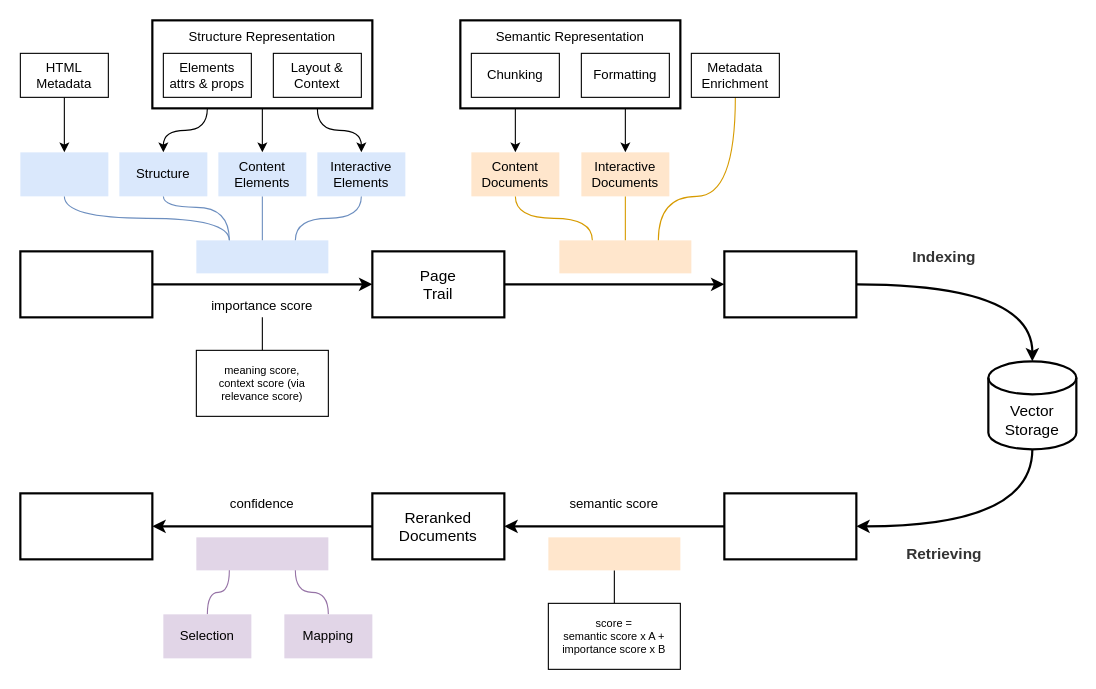
Some shapes in this 1096 by 689 pixel diagram are drawn without their labels. The shapes that lost their labels are listed below. From the top down, each one's centre as x and y in pixels, then its label:
the point at 64,174: Page Basics
the point at 262,256: Extraction
the point at 625,256: Transforming
the point at 86,284: DOM
the point at 790,284: Indexable Documents
the point at 86,526: Tool Results
the point at 790,526: Retrieved Documents
the point at 262,553: Resolution
the point at 614,553: Reranking
